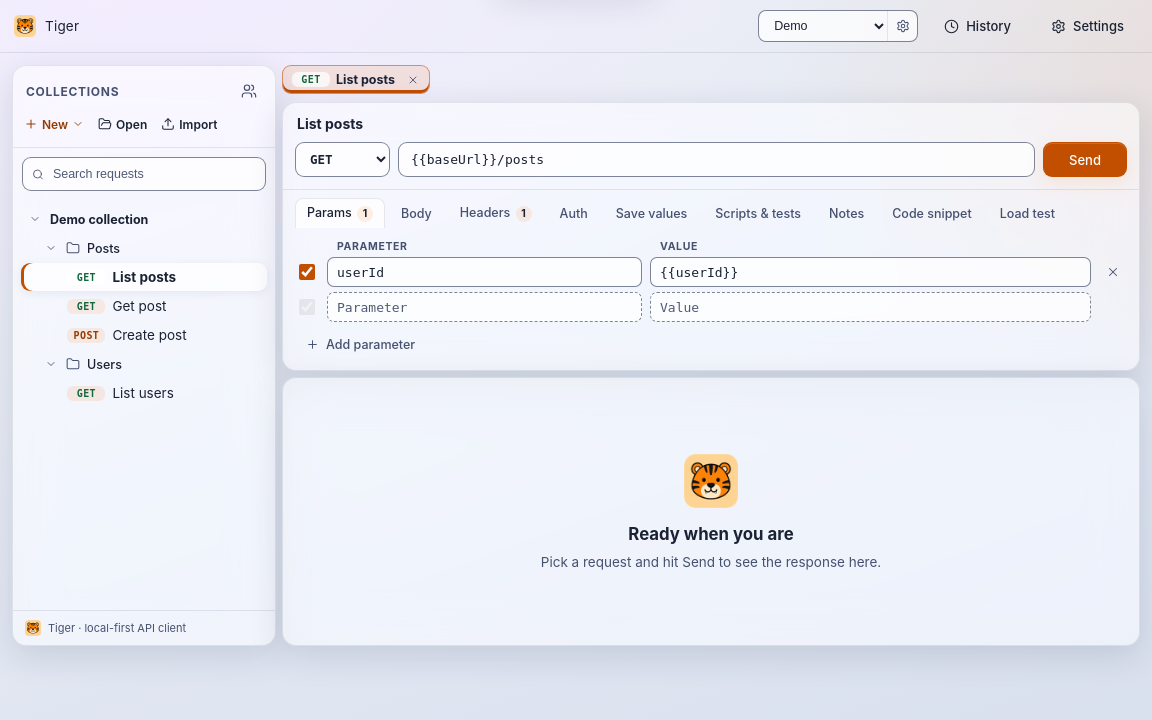
Scenario: App (browser preview, no Electron bridge) › folds and unfolds a folder via its chevron
The image size is (1152, 720).
Click the 1st button titled "Collapse folder": (51, 248) [39,236,63,260]
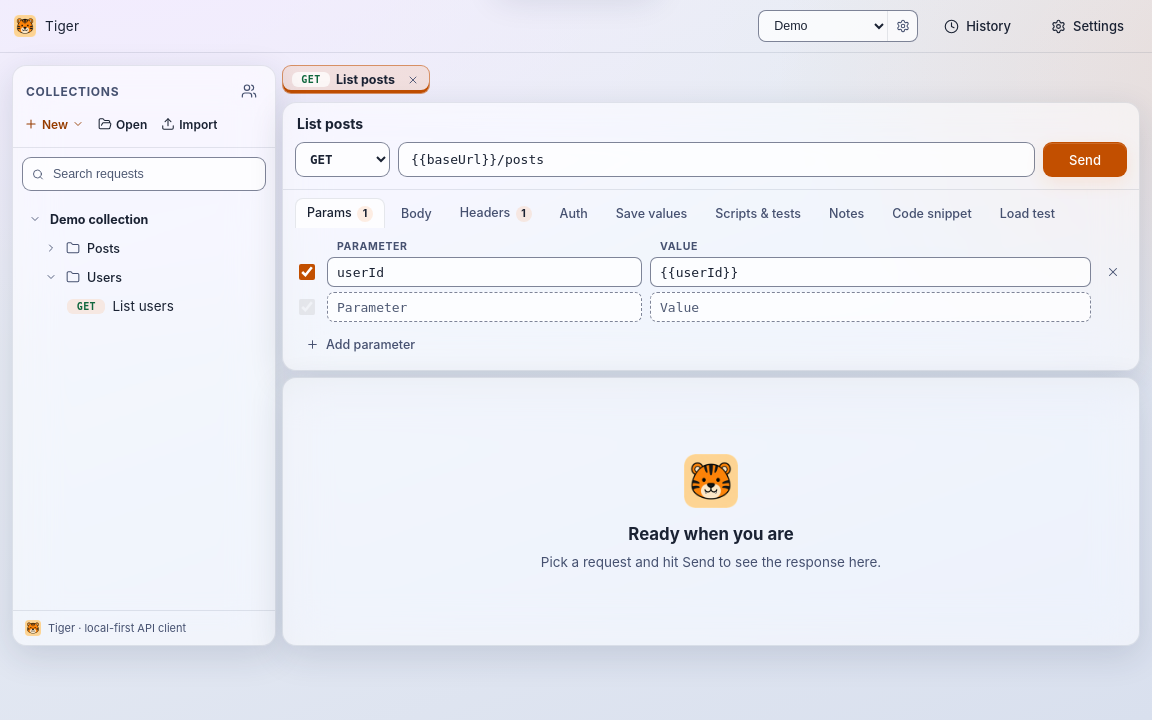
expect the text "List users" is shown: met, box [112,298,174,314]
Click the button titled "Expand folder": (51, 248) [39,236,63,260]
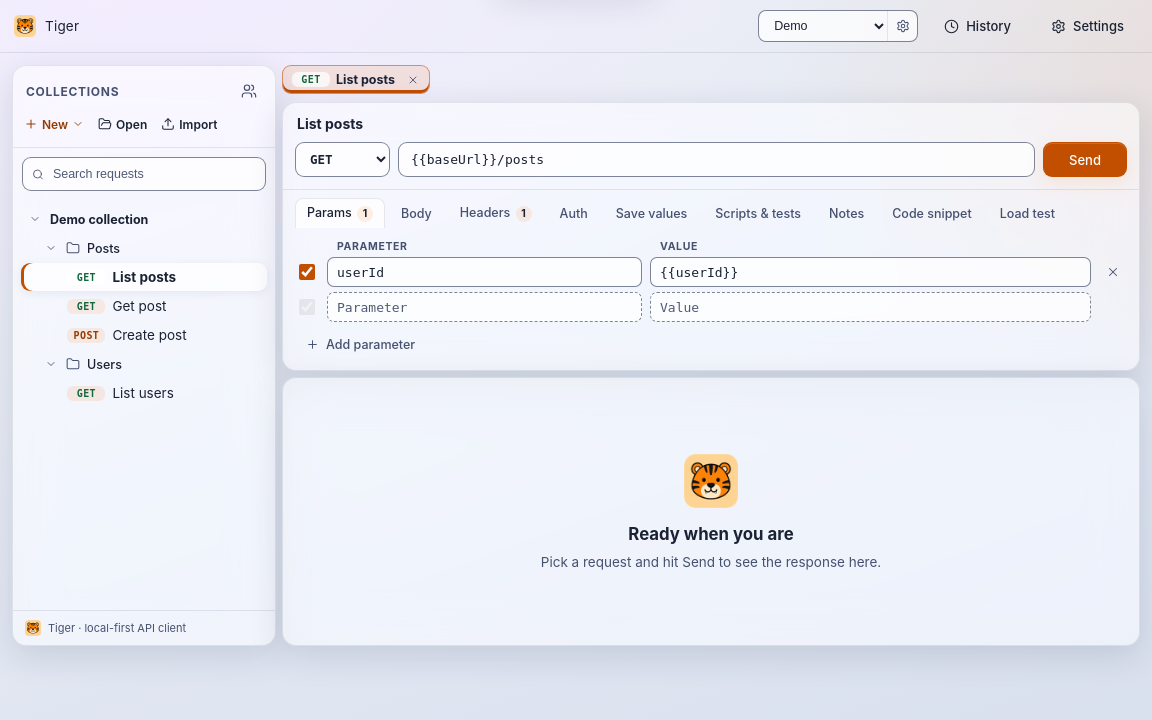
expect the text "List posts" below "Demo collection" is shown: met, box [112,269,176,285]
